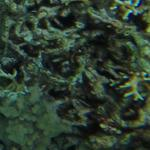dead: (1, 6, 146, 147)
